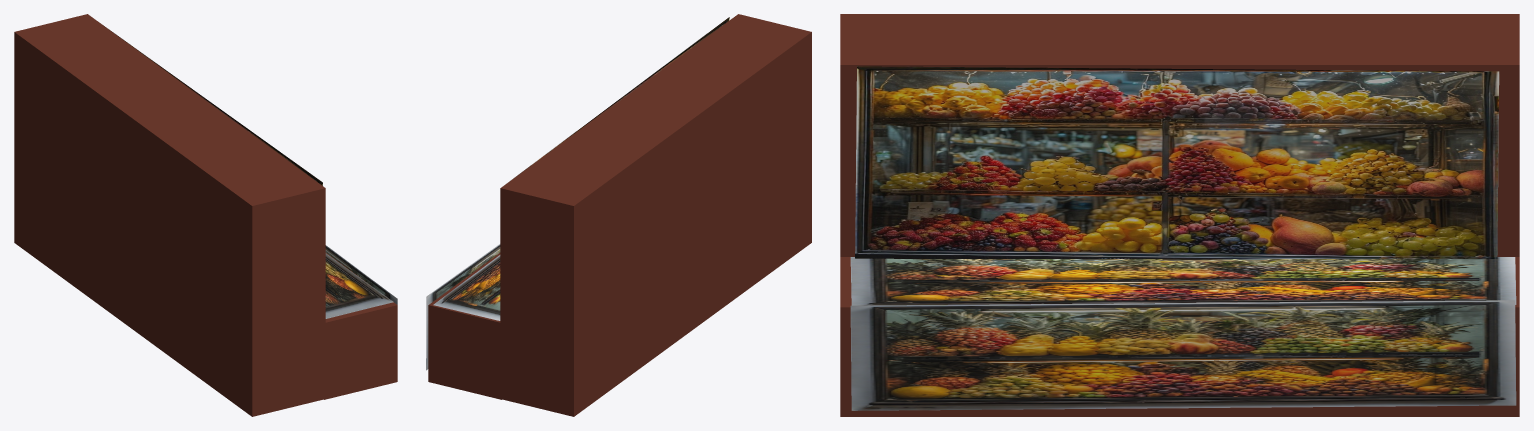
File: kantin.fbx
3 views of the same model, side by side, from view 1: azimuth 30°, elevation 25°; view 2: azimuth 150°, elevation 25°; view 3: azimuth 270°, elevation 25° (orthographic). The views are drawn at different scales.
Visible parts, largest first — view 1: Cube.001, Cube, Plane.001, Plane, Plane.002; view 2: Cube.001, Cube, Plane.001, Plane.002, Plane; view 3: Plane, Plane.002, Cube.001, Plane.001, Cube.
Boxes of the visible parts, x1=… form: Cube.001: x1=14, y1=14, x2=325, y2=416; Cube: x1=324, y1=253, x2=397, y2=399; Plane.001: x1=325, y1=253, x2=393, y2=318; Plane: x1=103, y1=25, x2=322, y2=185; Plane.002: x1=325, y1=245, x2=397, y2=304; Cube.001: x1=500, y1=14, x2=811, y2=416; Cube: x1=428, y1=253, x2=501, y2=399; Plane.001: x1=433, y1=255, x2=500, y2=320; Plane.002: x1=426, y1=244, x2=500, y2=370; Plane: x1=510, y1=17, x2=729, y2=180; Plane: x1=855, y1=66, x2=1499, y2=258; Plane.002: x1=850, y1=300, x2=1516, y2=410; Cube.001: x1=840, y1=14, x2=1519, y2=256; Plane.001: x1=850, y1=257, x2=1516, y2=305; Cube: x1=840, y1=257, x2=1519, y2=416.
Size of the model in its own units: 406 by 552 by 1122.
4 materials, 3 textured.
